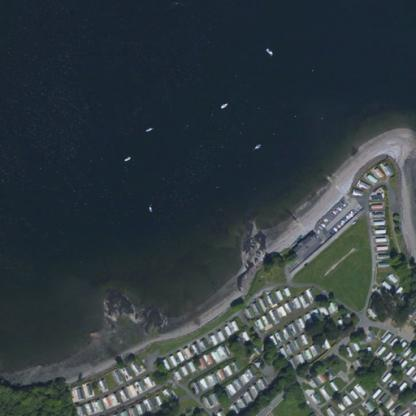ship: (265, 46, 273, 56), (218, 101, 228, 109), (146, 203, 154, 213), (144, 125, 152, 133), (253, 142, 261, 149), (122, 154, 129, 162)
